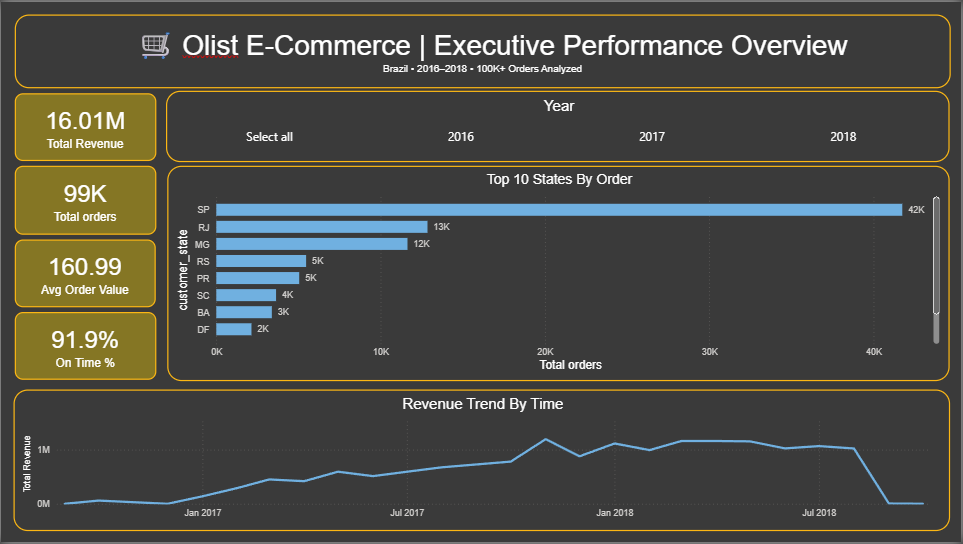

What the dashboard file says about the page in this screenshot:
{"tool":"powerbi","page":{"name":"Page 1","canvas":[1280,720],"ordinal":0},"visuals":[{"type":"card","fields":{"Values":["Measures (2).Total Revenue"]},"box":[19,122,189,90],"z":0},{"type":"card","fields":{"Values":["Measures (2).Total orders"]},"box":[19,218,189,92],"z":1000},{"type":"card","fields":{"Values":["Measures (2).Avg Order Value"]},"box":[18,317,188,90],"z":2000},{"type":"card","fields":{"Values":["Measures (2).On Time %"]},"box":[19,414,189,90],"z":3000},{"type":"lineChart","title":"Revenue Trend By Time","fields":{"Y":["Measures (2).Total Revenue"],"Category":["olist orders.month year.Variation.Date Hierarchy.Year","olist orders.month year.Variation.Date Hierarchy.Month"]},"box":[17.1,517.1,1248.6,188.6],"z":4000},{"type":"barChart","title":"Top 10 States By Order","fields":{"Y":["Measures (2).Total orders"],"Category":["olist customers.customer_state"]},"box":[221.4,218.6,1042.9,287.1],"z":5000},{"type":"advancedSlicerVisual","fields":{"Values":["olist orders.Year"]},"box":[220,118.3,1045,95],"z":6000},{"type":"textbox","box":[18.3,16.7,1248.3,98.3],"z":7000}]}

Visuals, with their boxes in screenshot pixels (x1, y1, x2, y2), scaled from the page's 1280x720 canvas onto the 963x544 screenshot:
card - Measures (2).Total Revenue: l=14, t=92, r=156, b=160
card - Measures (2).Total orders: l=14, t=165, r=156, b=234
card - Measures (2).Avg Order Value: l=14, t=240, r=155, b=308
card - Measures (2).On Time %: l=14, t=313, r=156, b=381
"Revenue Trend By Time" lineChart: l=13, t=391, r=952, b=533
"Top 10 States By Order" barChart: l=167, t=165, r=951, b=382
advancedSlicerVisual - olist orders.Year: l=166, t=89, r=952, b=161
textbox: l=14, t=13, r=953, b=87
